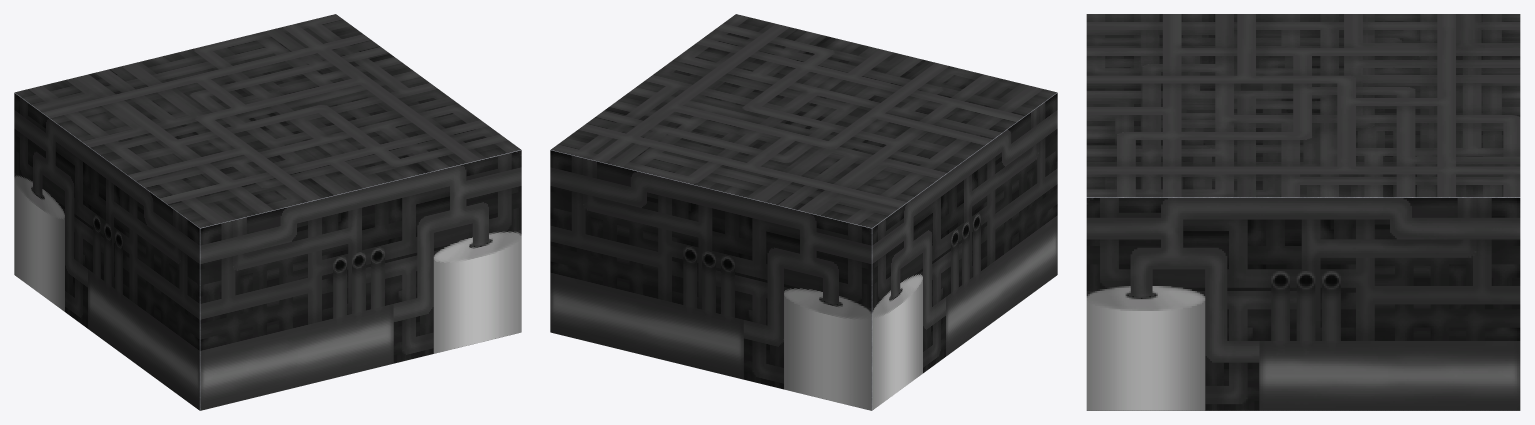
The model's file is refinery.obj.
The picture shows the model from 3 angles, left to right: view 1: azimuth 30°, elevation 25°; view 2: azimuth 150°, elevation 25°; view 3: azimuth 270°, elevation 25°; orthographic projection. The views are drawn at different scales.
Parts seen in each view (by area): view 1: Refinery4, Refinery7, Refinery5, Refinery1; view 2: Refinery6, Refinery7, Refinery5, Refinery1; view 3: Refinery3, Refinery7, Refinery1, Refinery2.
Boxes of the visible parts, x1,y1,x2,y2 form: Refinery4: (200,150,521,410); Refinery7: (15,14,520,227); Refinery5: (14,93,199,410); Refinery1: (15,93,520,410); Refinery6: (550,150,871,410); Refinery7: (551,14,1056,227); Refinery5: (872,93,1057,410); Refinery1: (551,93,1056,410); Refinery3: (1086,198,1520,410); Refinery7: (1086,14,1520,197); Refinery1: (1086,197,1520,197); Refinery2: (1087,410,1519,410).
Bounding box in the file's own units: 24.04 × 13.04 × 24.04.
5 materials, 5 textured.
